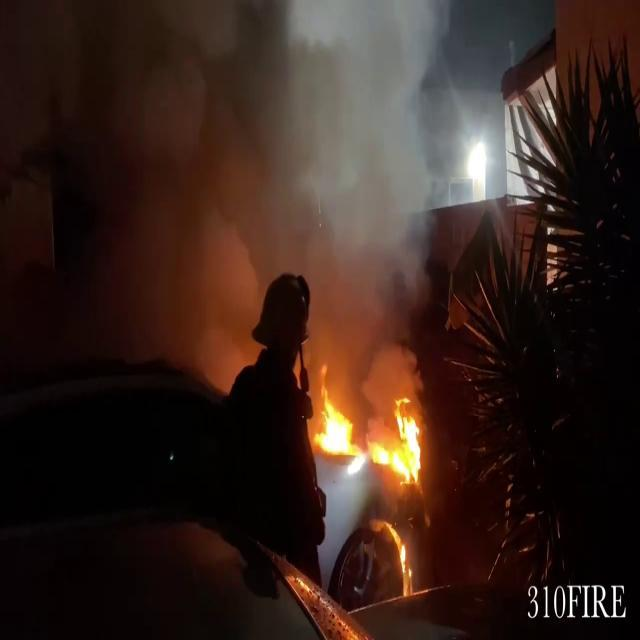Fire: (373, 398, 426, 484), (311, 386, 360, 467)
Smoke: (62, 3, 456, 384)
